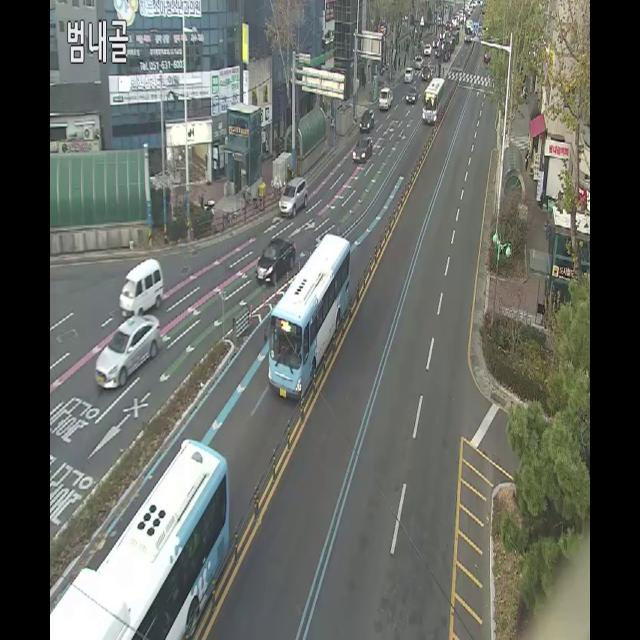car: (50, 438, 231, 640), (268, 232, 352, 400), (420, 77, 448, 125)
motorcycle: (94, 311, 162, 395), (119, 256, 164, 318), (254, 235, 295, 285), (278, 176, 306, 216), (351, 135, 374, 167), (356, 105, 376, 136)
truck: (377, 80, 395, 112)
